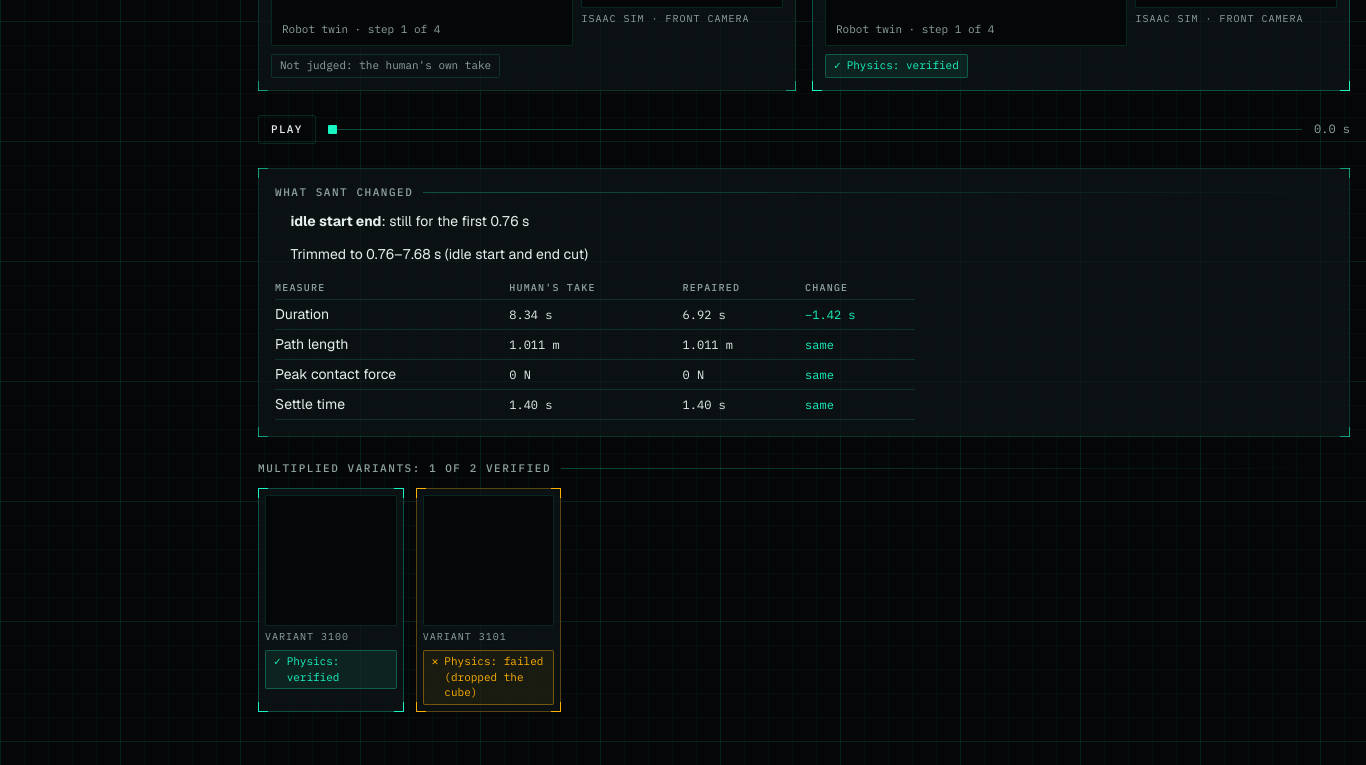
the data page › shows the variants with their badges, and one in the right view on a click
(page scrolled)
Expected: the heading "Multiplied variants: 1 of 2 verified" is shown, [258,461,551,475]
Expected: the text "Physics: failed (dropped the cube)" is shown, [444,654,543,699]
Click the button with aria-label "Show Variant 3101 in the right view".
click(489, 570)  # box [423,495,554,644]
(page scrolled)
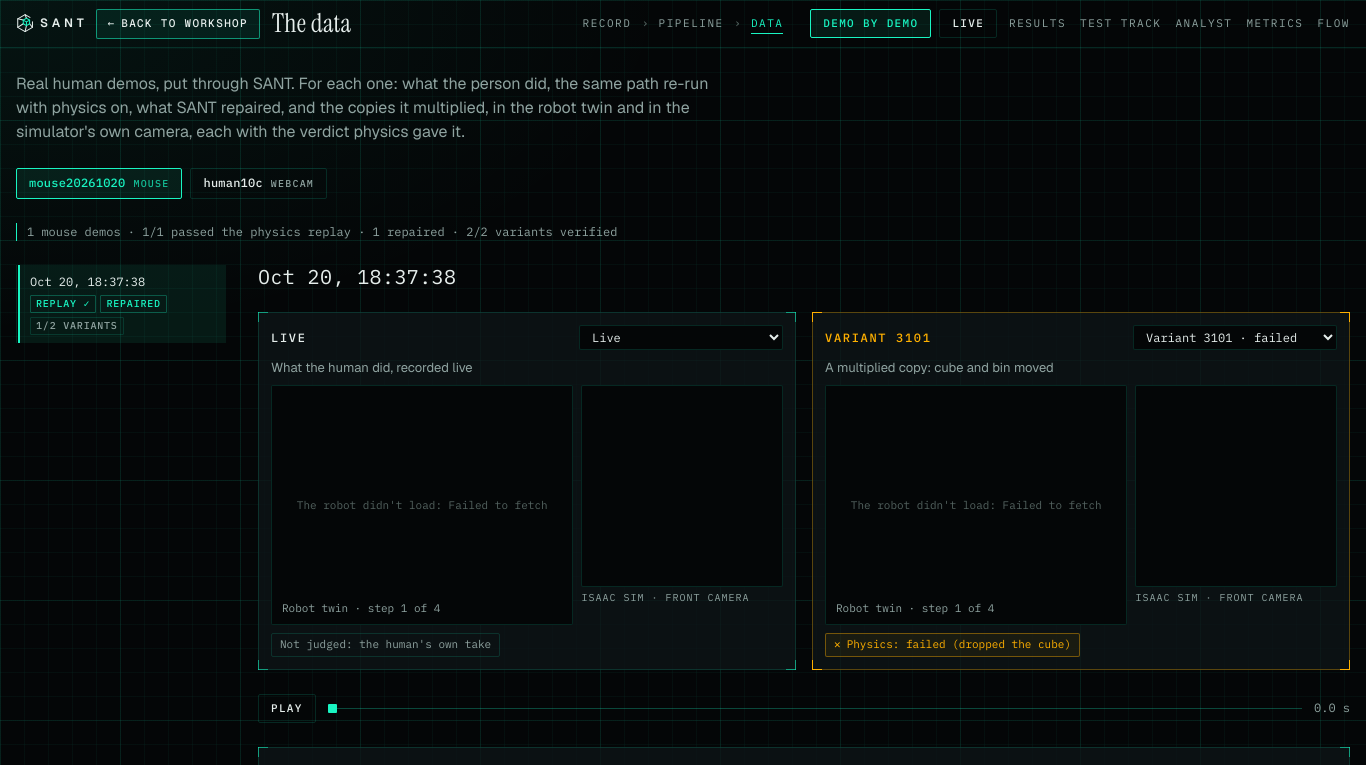
Expected: the heading "Variant 3101" is shown, [825,330,932,345]
